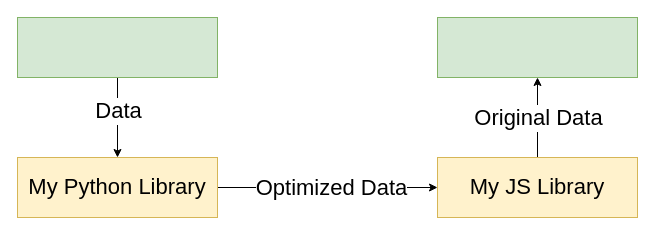
This 655x235 diagram has some shape labels left out. The shapes that lost their labels are listed below. From the top down, each one's box as (x1, y1, x2, y2) in pixels, then its label:
(16, 16, 218, 78): Python Controller
(436, 16, 638, 78): JS Code
